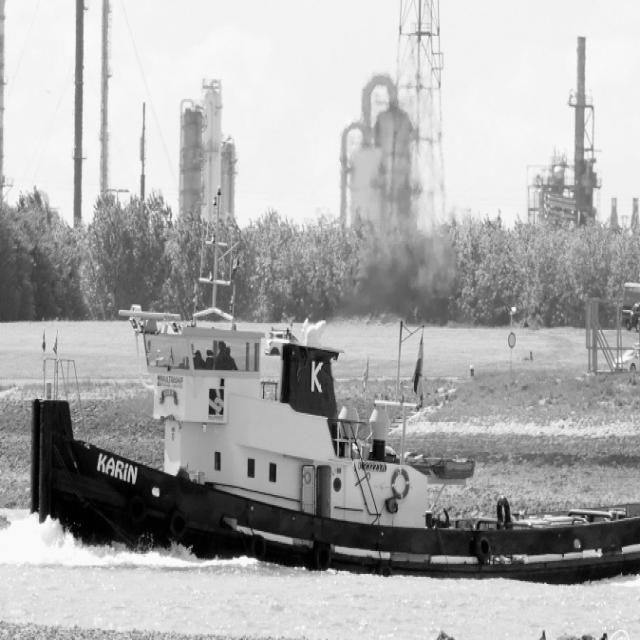tugboat: (28, 181, 640, 596)
